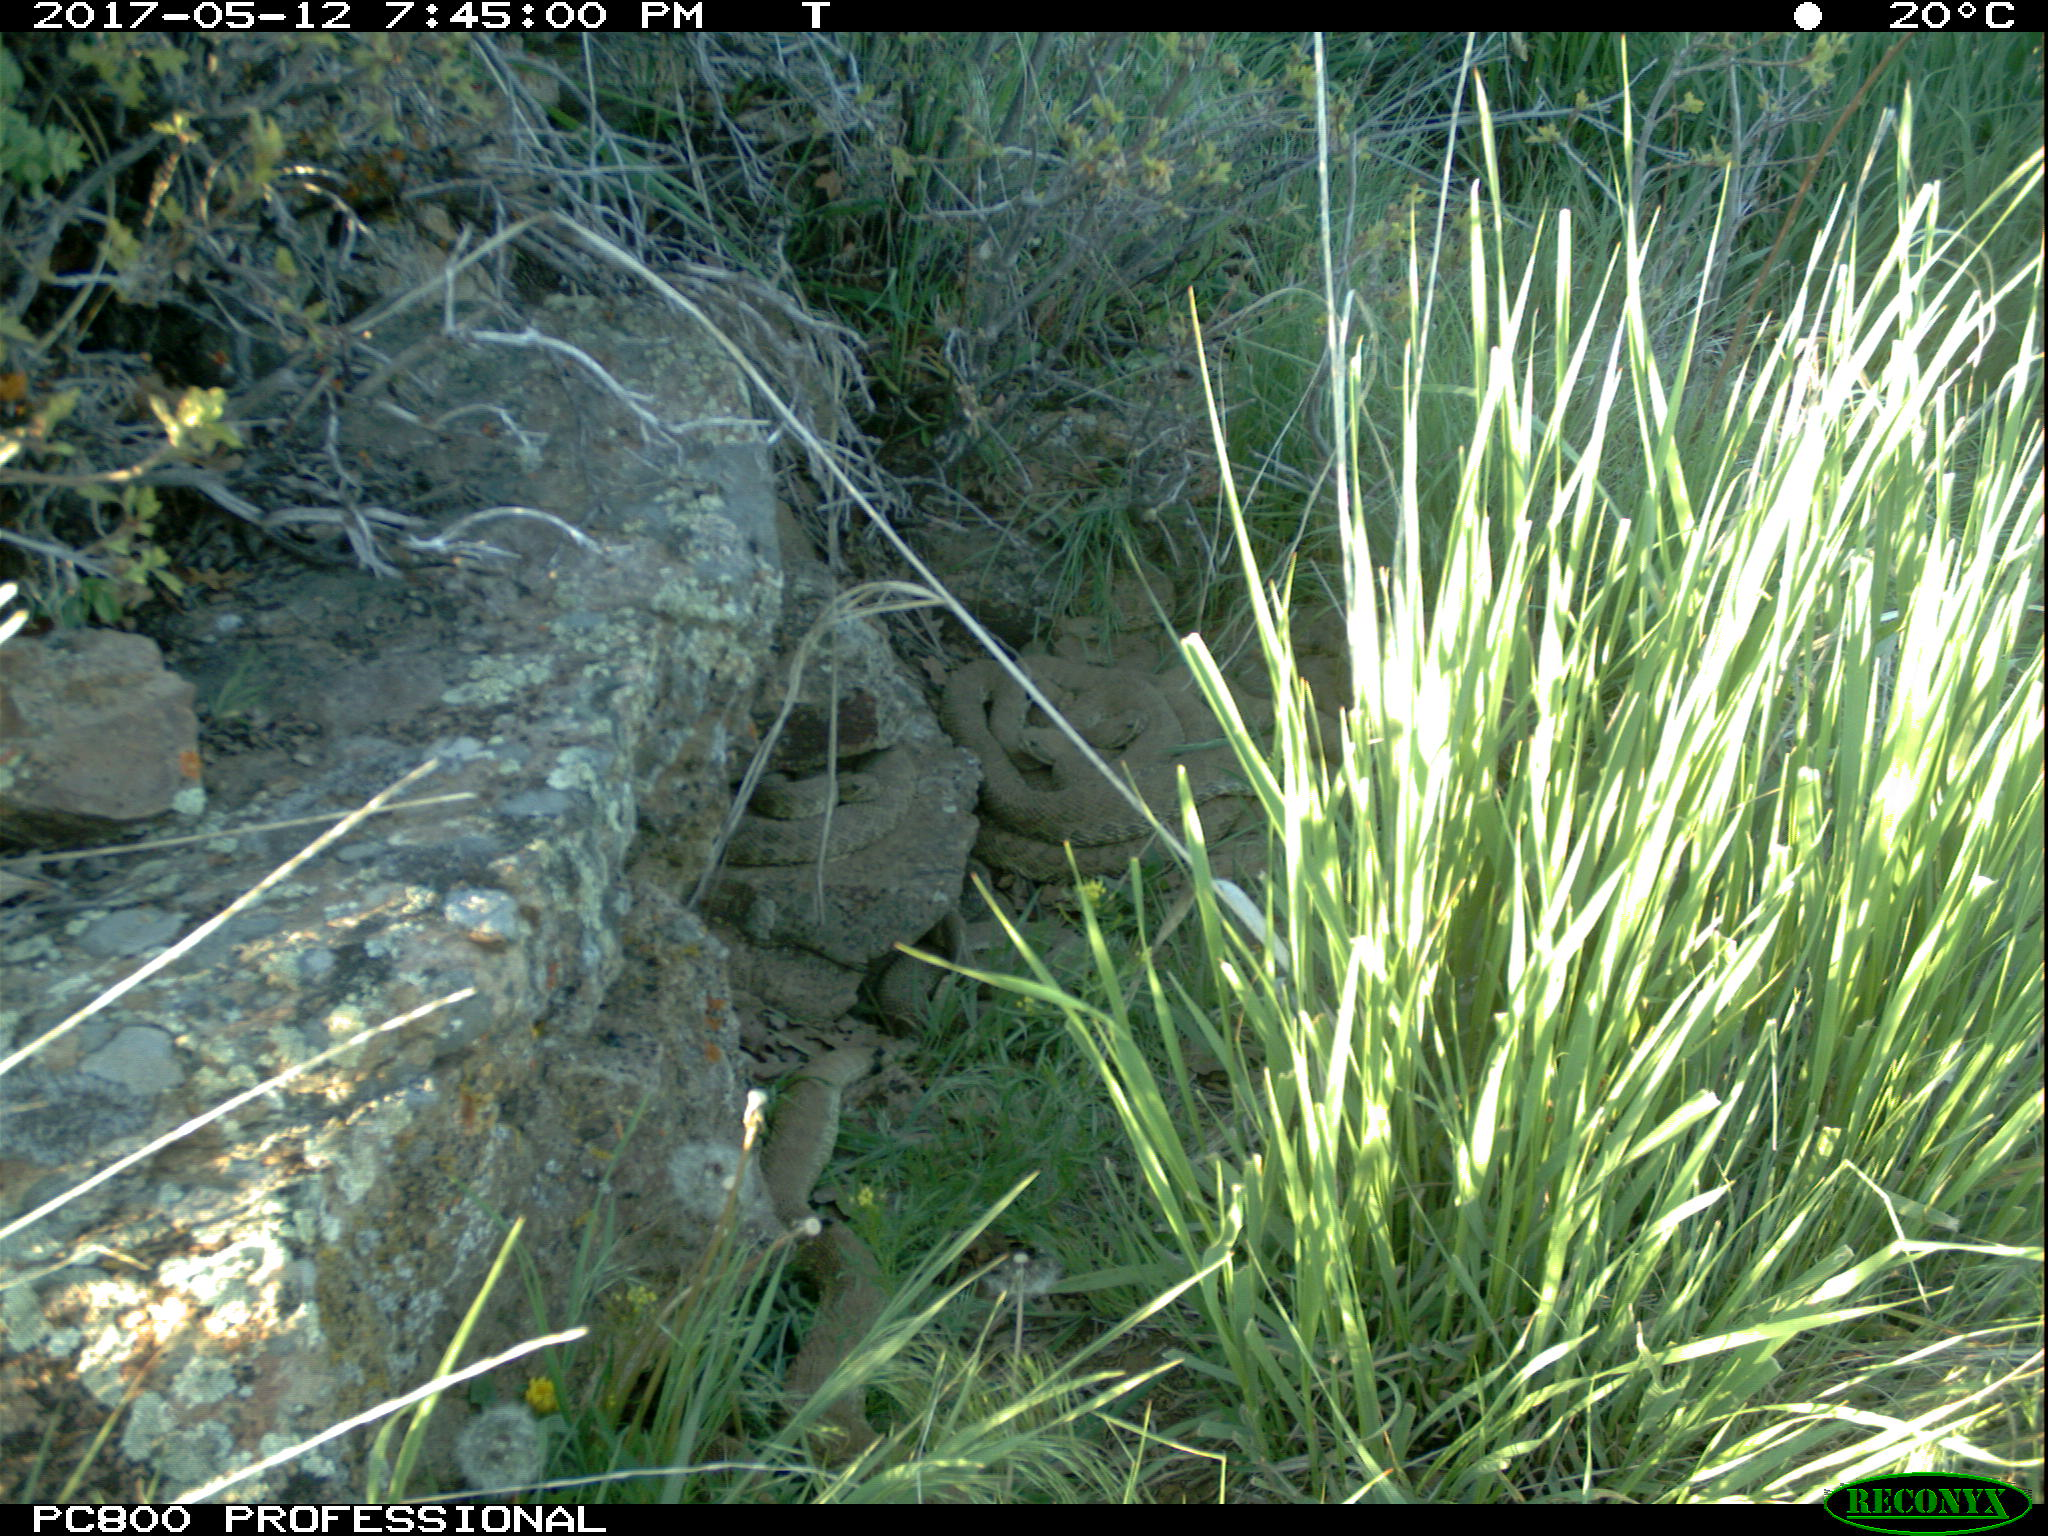snake: (772, 1044, 905, 1484), (934, 645, 1187, 799), (974, 753, 1238, 874), (732, 765, 914, 854), (1229, 608, 1363, 726), (868, 952, 961, 1042)
